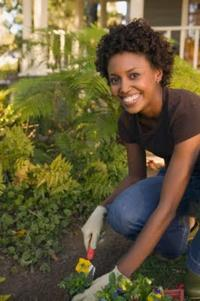person: (70, 17, 200, 301)
